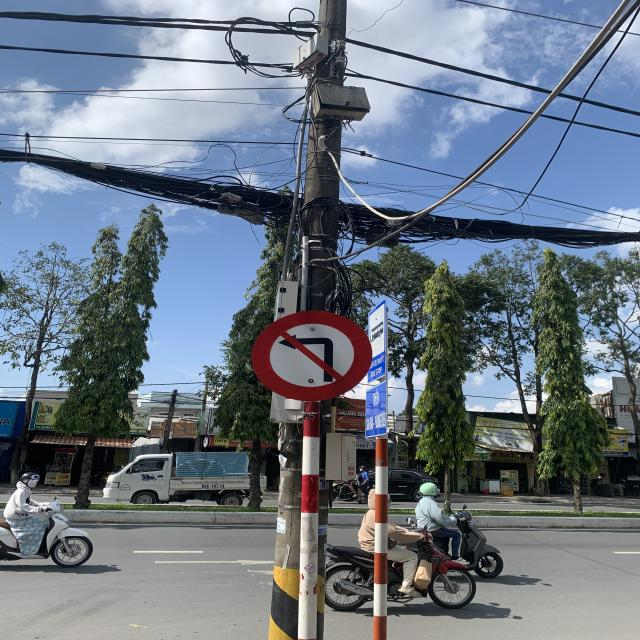Cam_Re_Trai: (252, 311, 372, 400)
